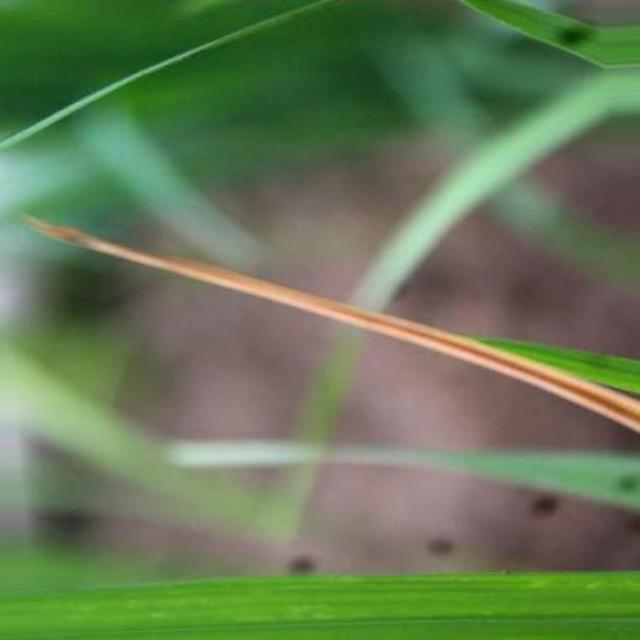Rice Tungro: (28, 218, 640, 432)
